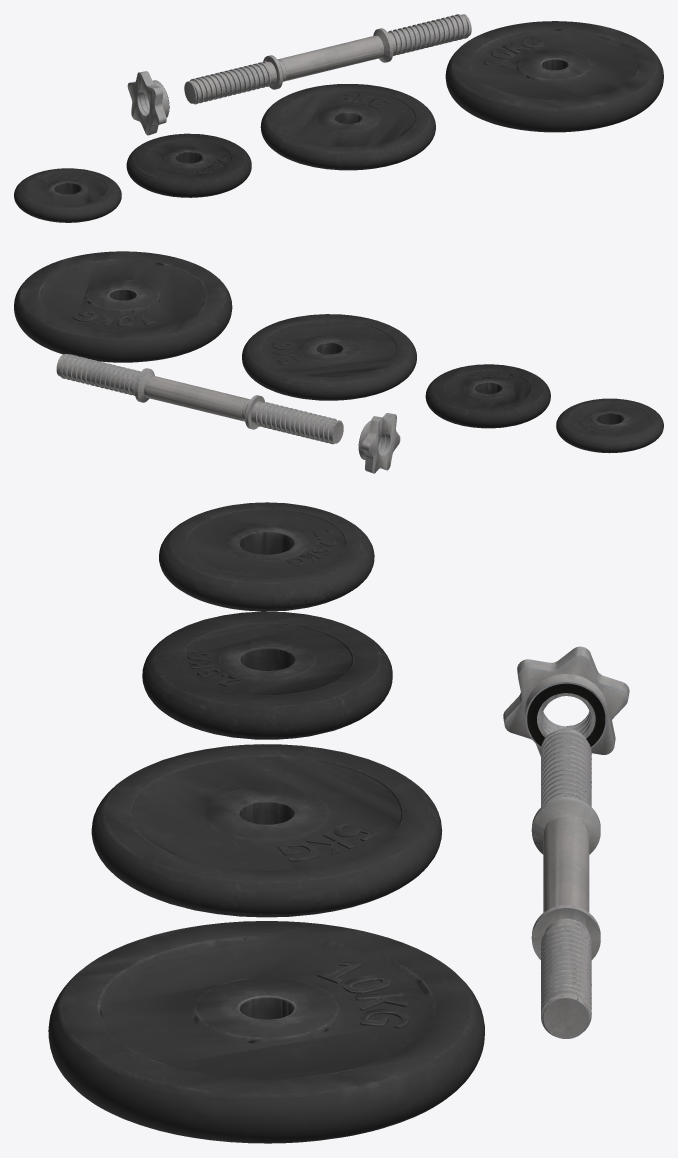
File: dumbbell-weights.glb
3 renders of one model, top to bottom at view 1: azimuth 30°, elevation 25°; view 2: azimuth 150°, elevation 25°; view 3: azimuth 270°, elevation 25°, orthographic. The views are drawn at different scales.
Visible parts, largest first — view 1: Object_1, Object_3, Object_4, Object_2, Object_0, Object_6; view 2: Object_1, Object_3, Object_4, Object_2, Object_0, Object_6; view 3: Object_1, Object_3, Object_2, Object_0, Object_4, Object_6, Object_5.
Boxes of the visible parts, <box> form: Object_1: <box>445,21,663,132</box>; Object_3: <box>260,84,435,170</box>; Object_4: <box>184,14,471,104</box>; Object_2: <box>126,133,251,197</box>; Object_0: <box>14,168,121,222</box>; Object_6: <box>127,71,169,135</box>; Object_1: <box>14,251,232,362</box>; Object_3: <box>242,314,416,400</box>; Object_4: <box>56,354,343,444</box>; Object_2: <box>425,364,550,428</box>; Object_0: <box>556,398,663,453</box>; Object_6: <box>358,413,400,473</box>; Object_1: <box>48,921,484,1143</box>; Object_3: <box>91,744,442,917</box>; Object_2: <box>142,611,392,739</box>; Object_0: <box>159,502,374,611</box>; Object_4: <box>531,728,600,1038</box>; Object_6: <box>503,646,629,756</box>; Object_5: <box>527,683,605,746</box>.
Bounding box in the file's own units: 0.8 × 0.0697 × 0.3205.
7 materials, 7 textured.
